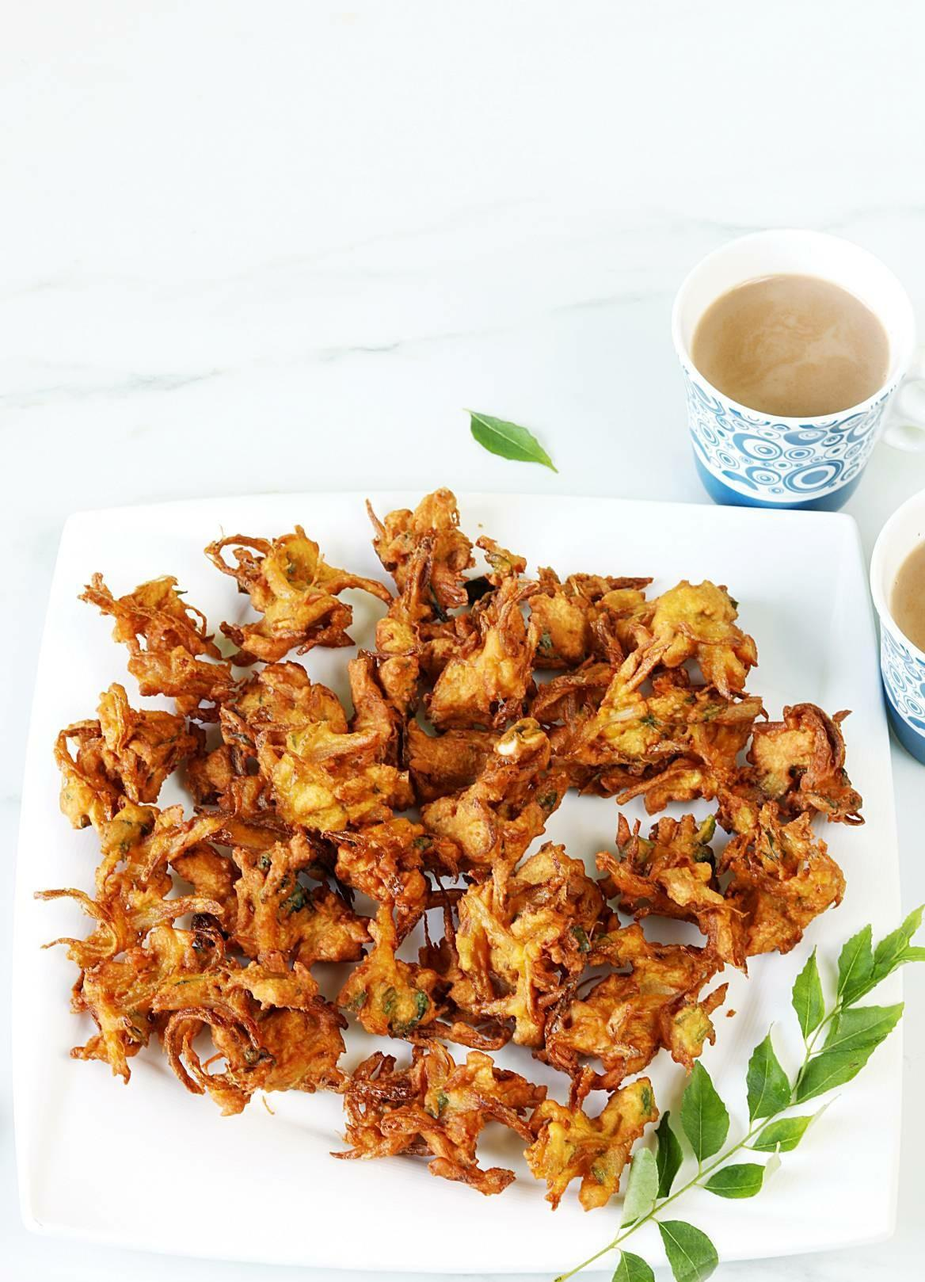Chai: (698, 279, 894, 418), (895, 537, 925, 656)
OnionPakoda: (21, 478, 861, 1214)
